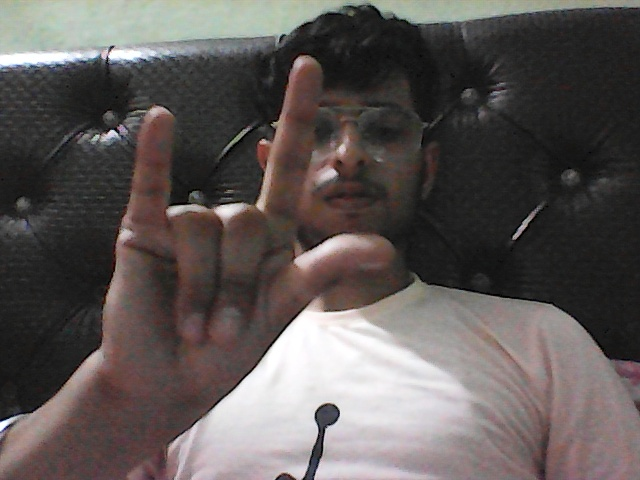iloveyou: (94, 58, 400, 434)
